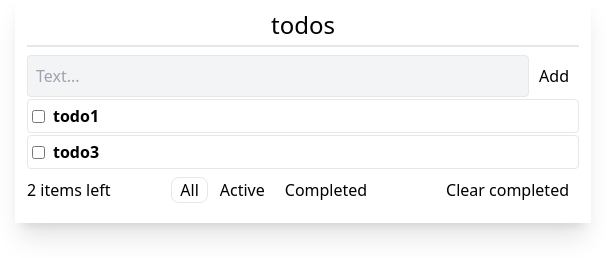
it: App component › должен по нажатию на Completed
Click the button "Completed" at {"x": 326, "y": 190}, box [277,177,375,203]
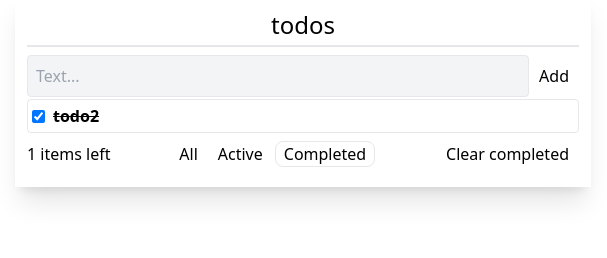
Check: the text "1 items left" is shown, box [27,142,110,166]
Check: the text "todo1" is gone
Check: the text "todo2" is shown, box [53,104,99,128]
